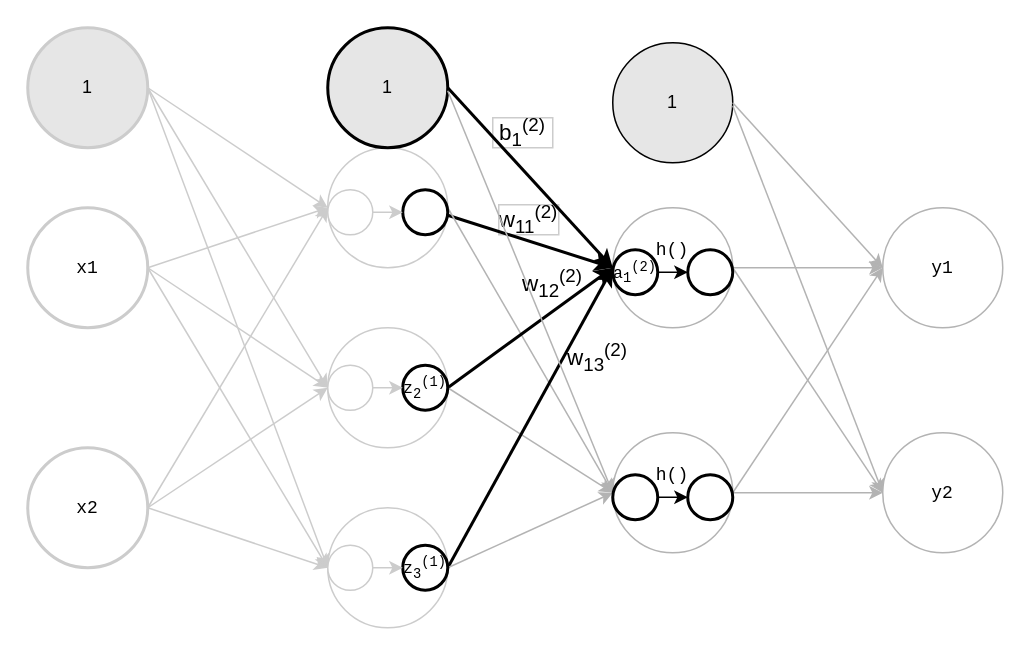
Image size: 1029x654. Some labels were removed from this diagram. Each missing label, with the centre of its shape:
"a 2 (2)" belongs at (634,496).
"z 1 (1)" belongs at (424,212).
"z 1 (2)" belongs at (710,272).
"z 2 (2)" belongs at (710,496).
